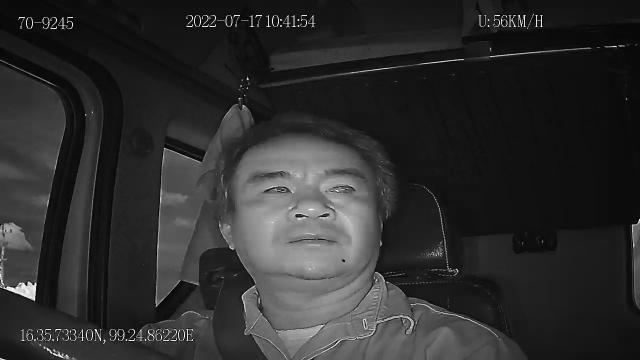SafeDriving: (248, 172, 299, 206), (318, 171, 366, 202)
Seatbelt: (210, 274, 270, 360)
